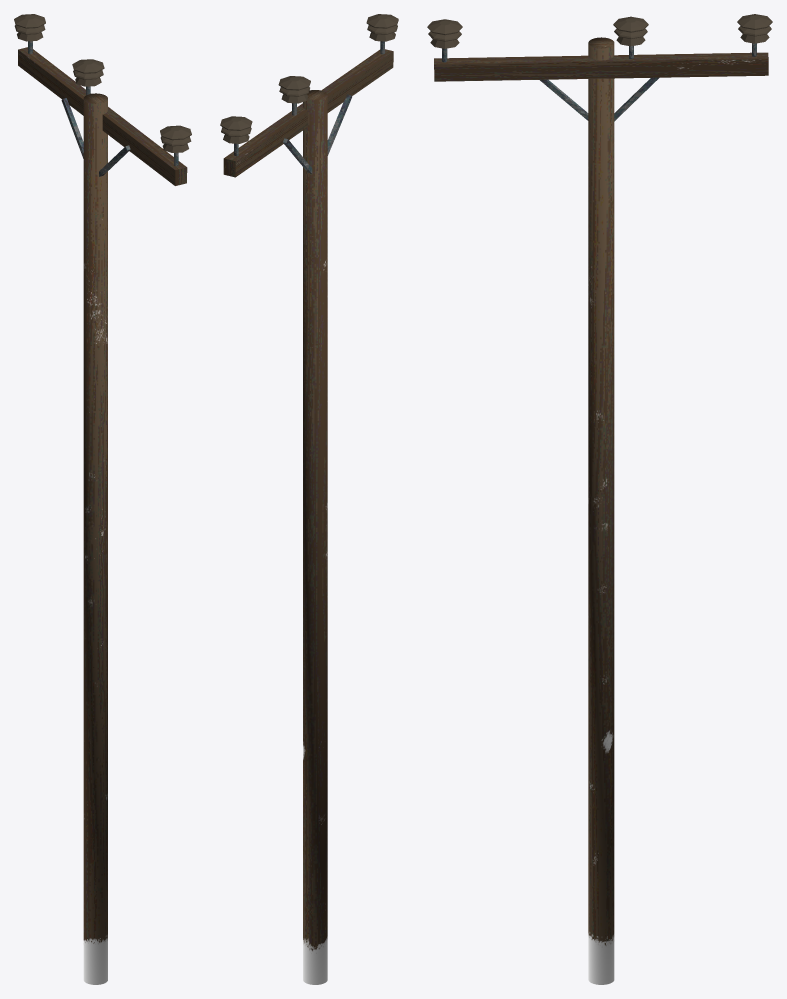
Rendered from Power_Pole.glb.
3 renders of one model, left to right at view 1: azimuth 30°, elevation 25°; view 2: azimuth 150°, elevation 25°; view 3: azimuth 270°, elevation 25°, orthographic. The views are drawn at different scales.
Visible parts, largest first — view 1: Cylinder, Cross Bar, Insulators, Support Pillars; view 2: Cylinder, Cross Bar, Insulators, Support Pillars; view 3: Cylinder, Cross Bar, Insulators, Support Pillars.
Boxes of the visible parts, bbox=[...] form: Cylinder: bbox=[83, 93, 107, 984]; Cross Bar: bbox=[18, 47, 187, 185]; Insulators: bbox=[14, 14, 191, 152]; Support Pillars: bbox=[61, 98, 130, 176]; Cylinder: bbox=[303, 90, 327, 984]; Cross Bar: bbox=[223, 49, 393, 177]; Insulators: bbox=[220, 14, 398, 143]; Support Pillars: bbox=[283, 94, 351, 173]; Cylinder: bbox=[588, 37, 614, 984]; Cross Bar: bbox=[434, 52, 768, 81]; Insulators: bbox=[427, 14, 772, 48]; Support Pillars: bbox=[540, 77, 659, 121].
Size of the model in its own units: 0.4292 by 11.8 by 3.83.
5 materials, 4 textured.
